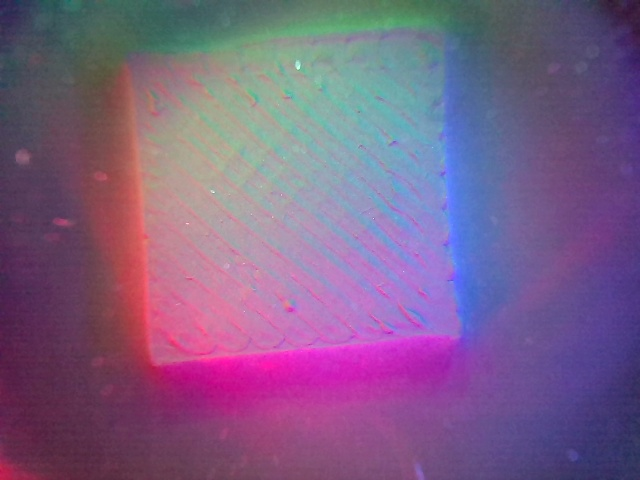contact: (132, 31, 458, 360)
